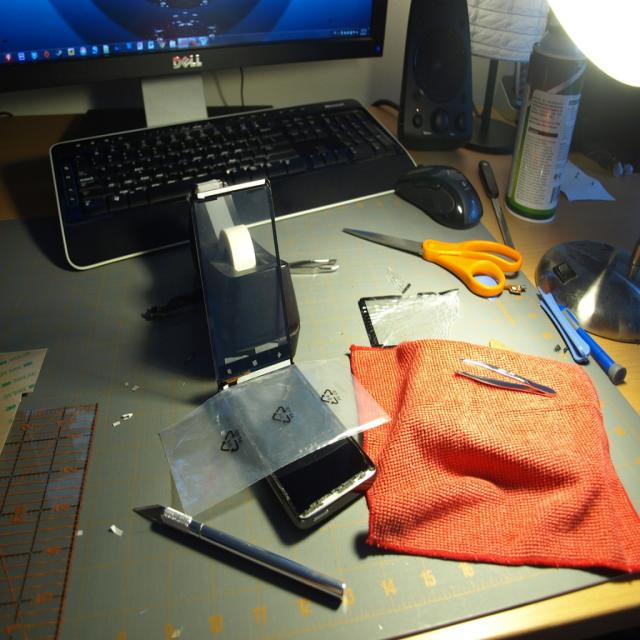Computer-mouse: (396, 164, 484, 230)
